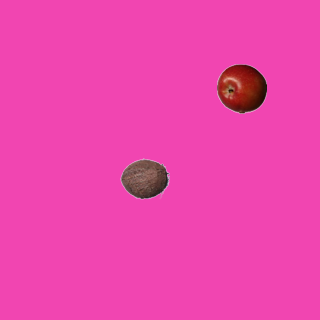Apple Braeburn: (216, 63, 266, 113)
Cocos: (119, 153, 169, 203)
